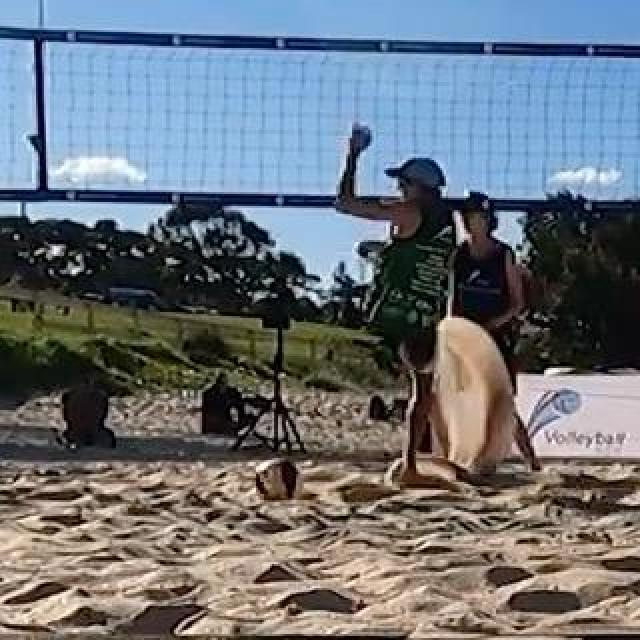volleyball: (254, 458, 302, 500)
